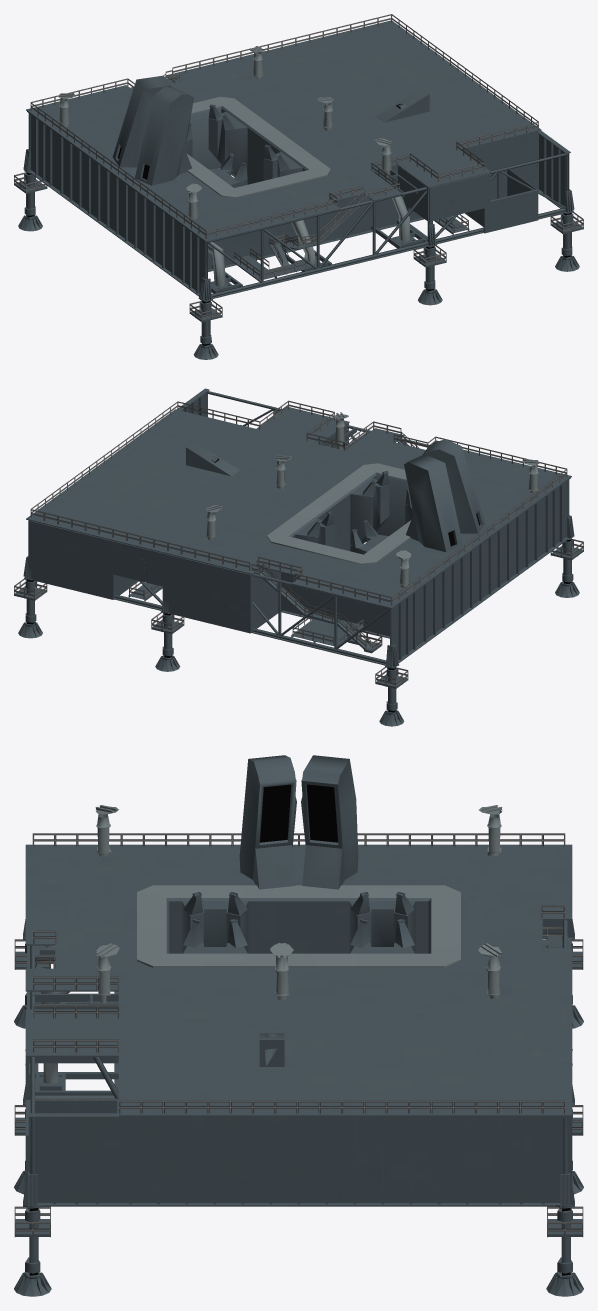
Rendered from pad.glb.
The picture shows the model from 3 angles, top to bottom: view 1: azimuth 30°, elevation 25°; view 2: azimuth 150°, elevation 25°; view 3: azimuth 270°, elevation 25°; orthographic projection. The views are drawn at different scales.
Visible parts, largest first — view 1: MLP-1_HP; view 2: MLP-1_HP; view 3: MLP-1_HP.
Boxes of the visible parts, left/top/right/bottom form: MLP-1_HP: left=14, top=14, right=583, bottom=359; MLP-1_HP: left=14, top=388, right=583, bottom=726; MLP-1_HP: left=14, top=755, right=583, bottom=1296.
Bounding box in the file's own units: 1.02 × 0.4966 × 0.8672.
2 materials, 2 textured.
